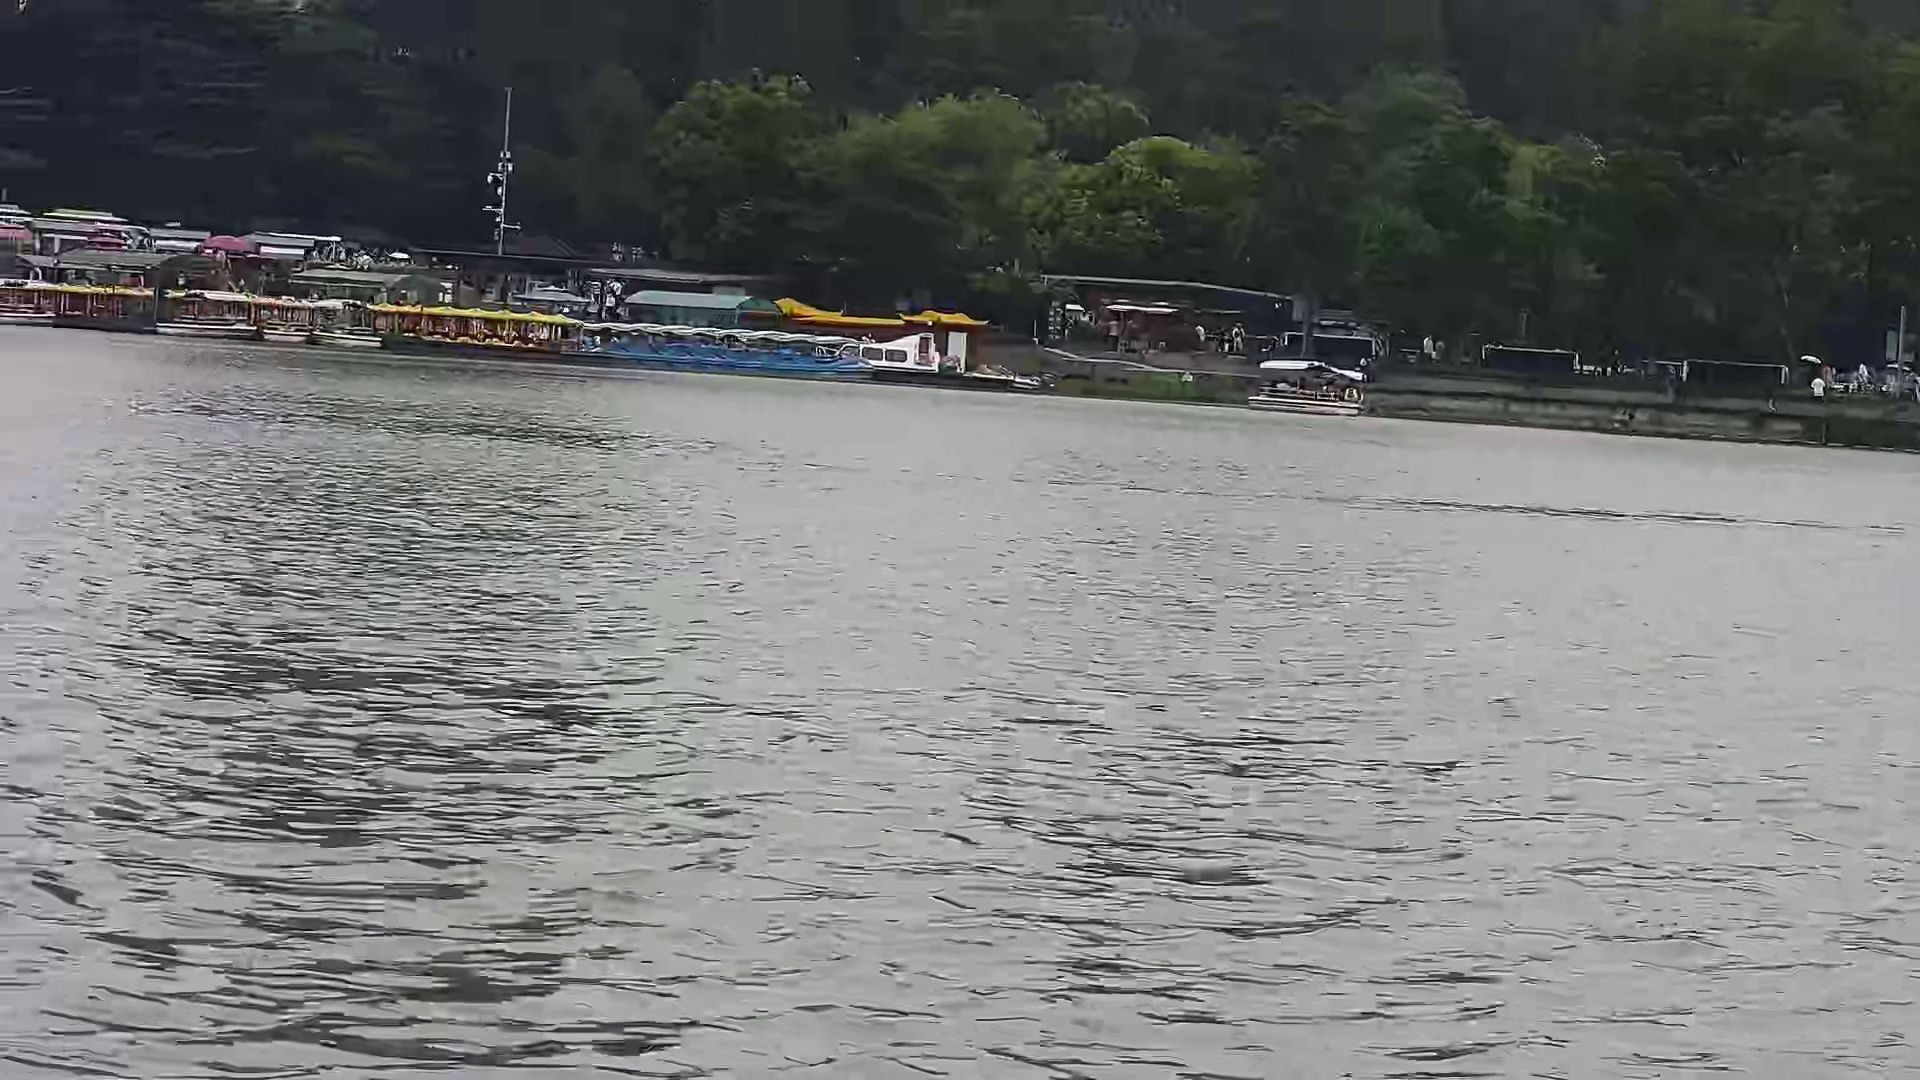boat: (1250, 348, 1364, 415)
harbor: (42, 211, 1035, 400)
